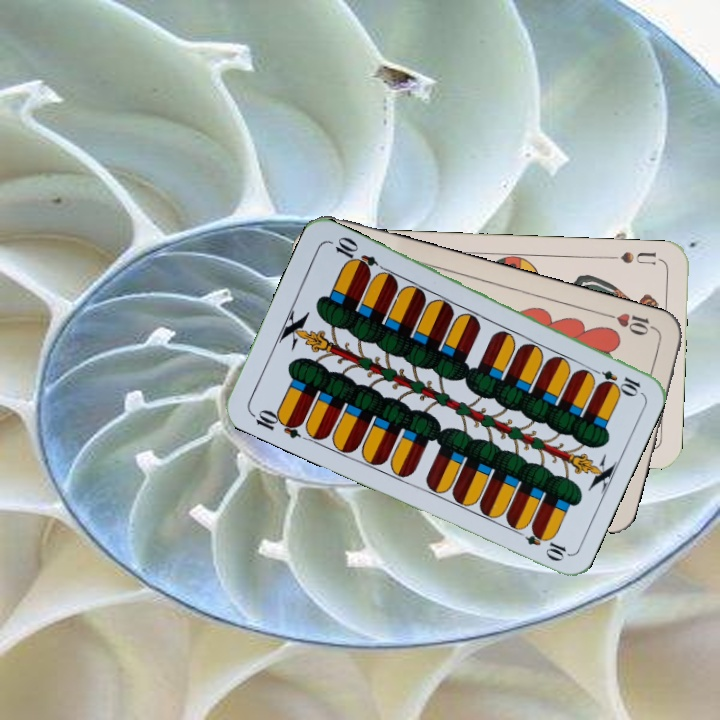E10: (247, 405, 305, 441), (585, 363, 643, 397)
H10: (603, 308, 661, 338)
SU: (604, 248, 658, 267)
